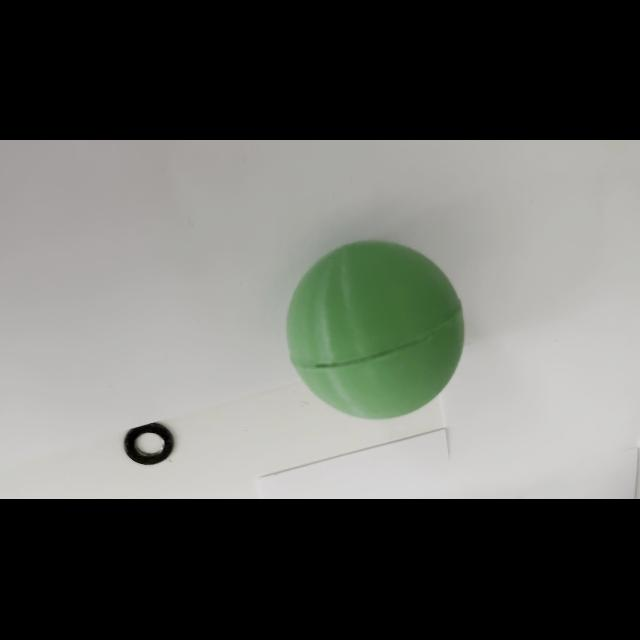objects: (282, 234, 468, 424)
